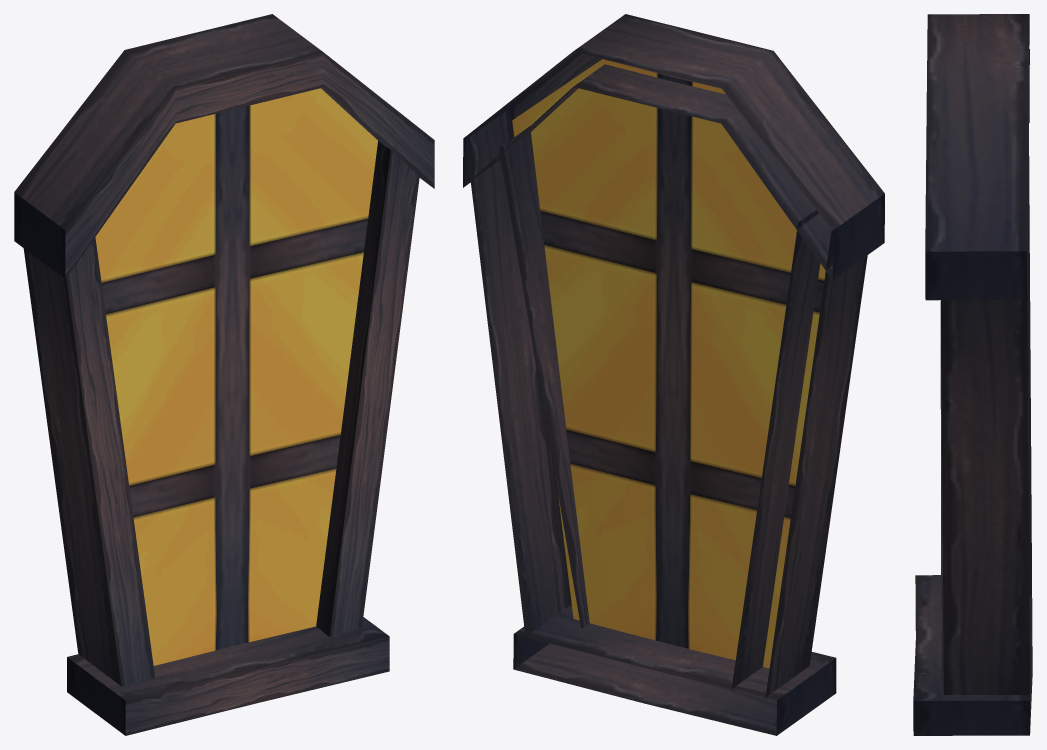
Rendered from Window_A.fbx.
3 views of the same model, side by side, from view 1: azimuth 30°, elevation 25°; view 2: azimuth 150°, elevation 25°; view 3: azimuth 270°, elevation 25° (orthographic).
Parts seen in each view (by area): view 1: Window_A; view 2: Window_A; view 3: Window_A.
Boxes of the visible parts, <box> form: Window_A: <box>14,14,434,735</box>; Window_A: <box>463,14,884,735</box>; Window_A: <box>913,14,1032,735</box>.
Size of the model in its own units: 36.07 by 58.91 by 10.22.
Materials: 1 (1 with a texture image).
